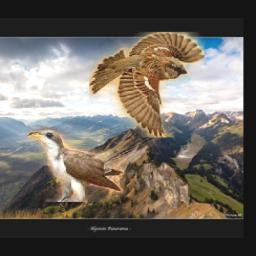Cuckoo: (27, 125, 157, 203)
Sparrow: (89, 33, 205, 138)
